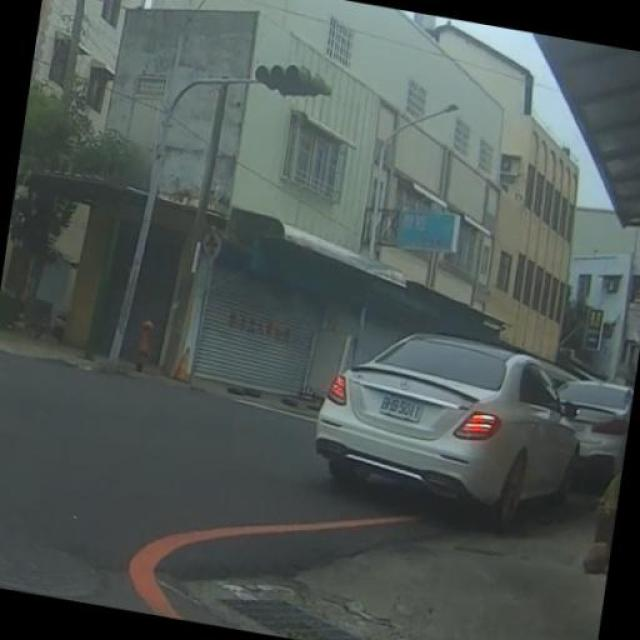illegalparking: (299, 297, 621, 558)
